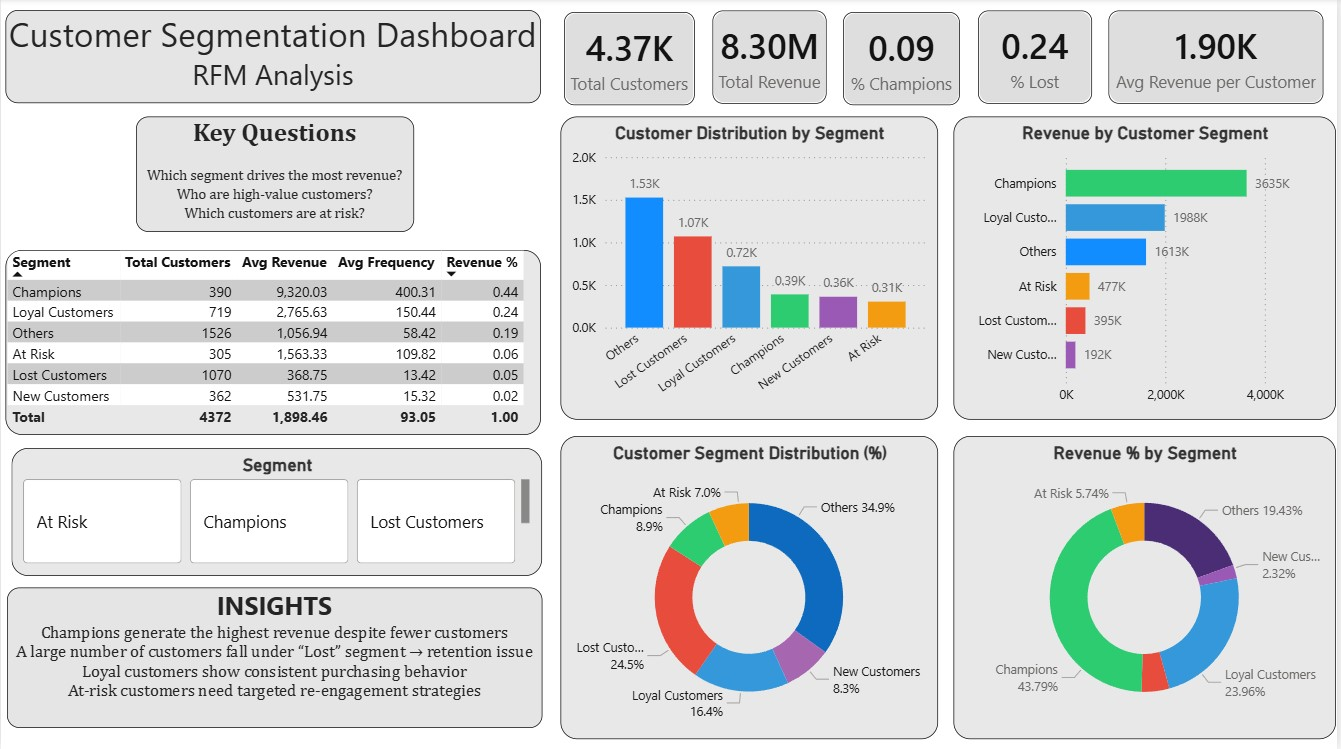

This screenshot's page, from the dashboard's own definition file:
{"tool":"powerbi","page":{"name":"Page 1","canvas":[1280,720],"ordinal":0},"visuals":[{"type":"cardVisual","fields":{"Data":["rfm_final.Total Customers"]},"box":[528.5,1.5,149.9,113.6],"z":0},{"type":"columnChart","title":"Customer Distribution by Segment","fields":{"Category":["rfm_final.segment"],"Y":["CountNonNull(rfm_final.CustomerID)"]},"box":[536,113.6,361.9,290.7],"z":1000},{"type":"barChart","title":"Revenue by Customer Segment","fields":{"Category":["rfm_final.segment"],"Y":["Sum(rfm_final.monetary)"]},"box":[913.1,113.6,366.4,290.7],"z":2000},{"type":"donutChart","title":"Revenue % by Segment","fields":{"Y":["rfm_final.Revenue %"],"Category":["rfm_final.Segment"]},"box":[913.1,419.4,366.4,290.7],"z":3000},{"type":"textbox","box":[4.5,12.1,513.3,89.3],"z":4000},{"type":"advancedSlicerVisual","fields":{"Values":["rfm_final.Segment"]},"box":[10.6,431.5,508.8,122.7],"z":5000},{"type":"cardVisual","fields":{"Data":["rfm_final.% Lost"]},"box":[924.2,0,133.7,113.6],"z":6000},{"type":"cardVisual","fields":{"Data":["rfm_final.% Champions"]},"box":[795.8,1.4,136.6,113.6],"z":7000},{"type":"cardVisual","fields":{"Data":["rfm_final.Total Revenue"]},"box":[670.2,0,133.7,113.6],"z":8000},{"type":"donutChart","title":"Customer Segment Distribution (%)","fields":{"Category":["rfm_final.segment"],"Y":["rfm_final.Total Customers"]},"box":[536,419.4,361.9,290.7],"z":9000},{"type":"tableEx","fields":{"Values":["rfm_final.Segment","rfm_final.Total Customers","rfm_final.Avg Revenue","rfm_final.Avg Frequency","rfm_final.Revenue %"]},"box":[4.5,242.3,513.3,177.2],"z":10000},{"type":"cardVisual","fields":{"Data":["rfm_final.Avg Revenue per Customer"]},"box":[1049.8,0,230.1,113.6],"z":11000},{"type":"textbox","box":[6.1,564.8,513.3,134.8],"z":12000},{"type":"textbox","box":[129.5,113.6,266.5,110.5],"z":13000}]}

Visuals, with their boxes in screenshot pixels (x1, y1, x2, y2), scaled from the page's 1280x720 canvas onto the 1341x749 screenshot:
cardVisual - rfm_final.Total Customers: [x1=554, y1=2, x2=711, y2=120]
"Customer Distribution by Segment" columnChart: [x1=562, y1=118, x2=941, y2=421]
"Revenue by Customer Segment" barChart: [x1=957, y1=118, x2=1340, y2=421]
"Revenue % by Segment" donutChart: [x1=957, y1=436, x2=1340, y2=739]
textbox: [x1=5, y1=13, x2=542, y2=105]
advancedSlicerVisual - rfm_final.Segment: [x1=11, y1=449, x2=544, y2=577]
cardVisual - rfm_final.% Lost: [x1=968, y1=0, x2=1108, y2=118]
cardVisual - rfm_final.% Champions: [x1=834, y1=1, x2=977, y2=120]
cardVisual - rfm_final.Total Revenue: [x1=702, y1=0, x2=842, y2=118]
"Customer Segment Distribution (%)" donutChart: [x1=562, y1=436, x2=941, y2=739]
tableEx - rfm_final.Segment x rfm_final.Total Customers: [x1=5, y1=252, x2=542, y2=436]
cardVisual - rfm_final.Avg Revenue per Customer: [x1=1100, y1=0, x2=1340, y2=118]
textbox: [x1=6, y1=588, x2=544, y2=728]
textbox: [x1=136, y1=118, x2=415, y2=233]
